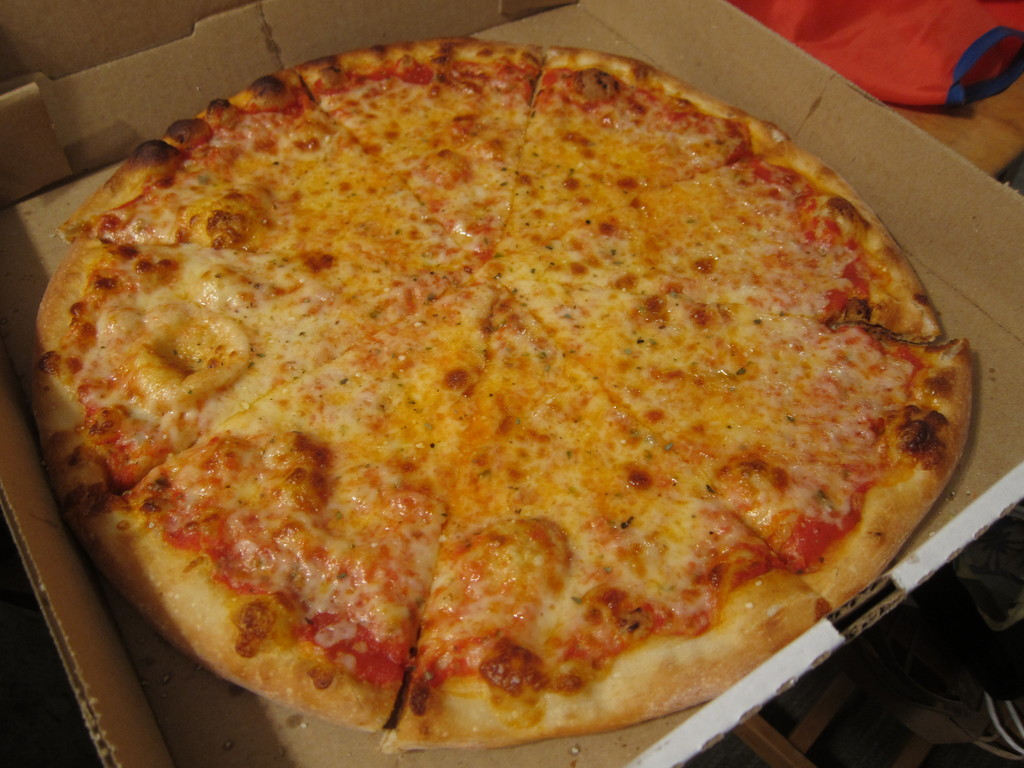Pizza: (26, 34, 976, 750)
